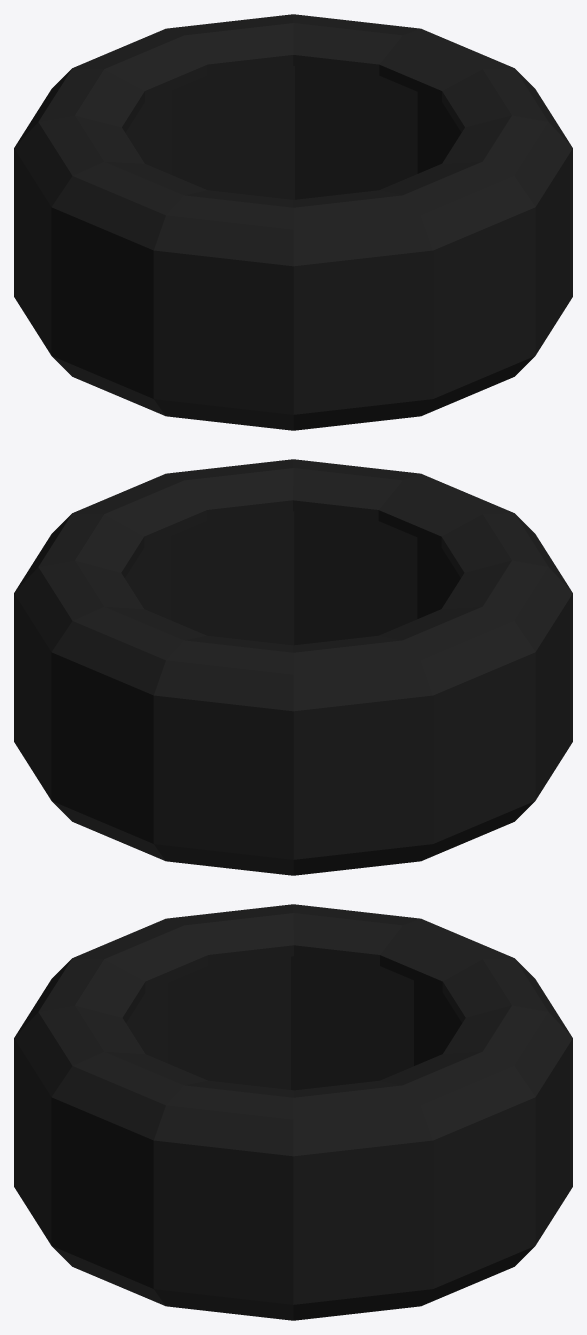
Rendered from LP_Tire Barrier_03.fbx.
The picture shows the model from 3 angles, top to bottom: view 1: azimuth 30°, elevation 25°; view 2: azimuth 150°, elevation 25°; view 3: azimuth 270°, elevation 25°; orthographic projection.
Parts seen in each view (by area): view 1: LP_Tire Barrier_03; view 2: LP_Tire Barrier_03; view 3: LP_Tire Barrier_03.
Boxes of the visible parts, <box> form: LP_Tire Barrier_03: <box>14,14,572,430</box>; LP_Tire Barrier_03: <box>14,459,572,875</box>; LP_Tire Barrier_03: <box>14,904,572,1320</box>.
Bounding box in the file's own units: 0.7988 × 0.3377 × 0.7988.
